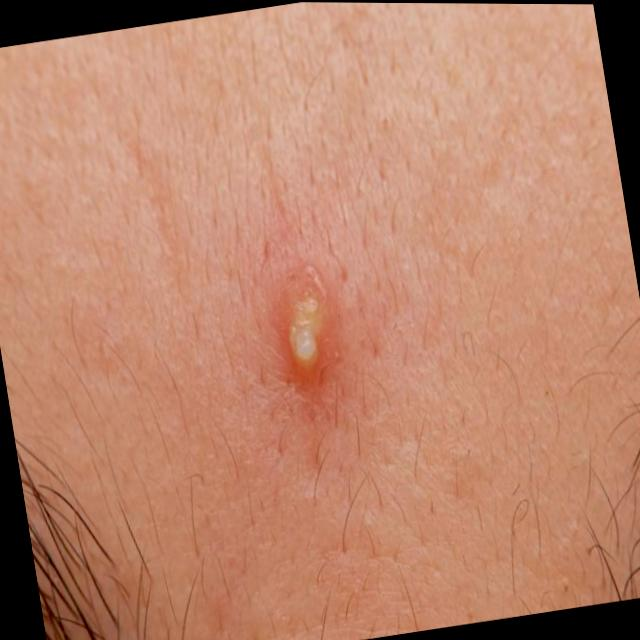pustule: (252, 235, 382, 418)
